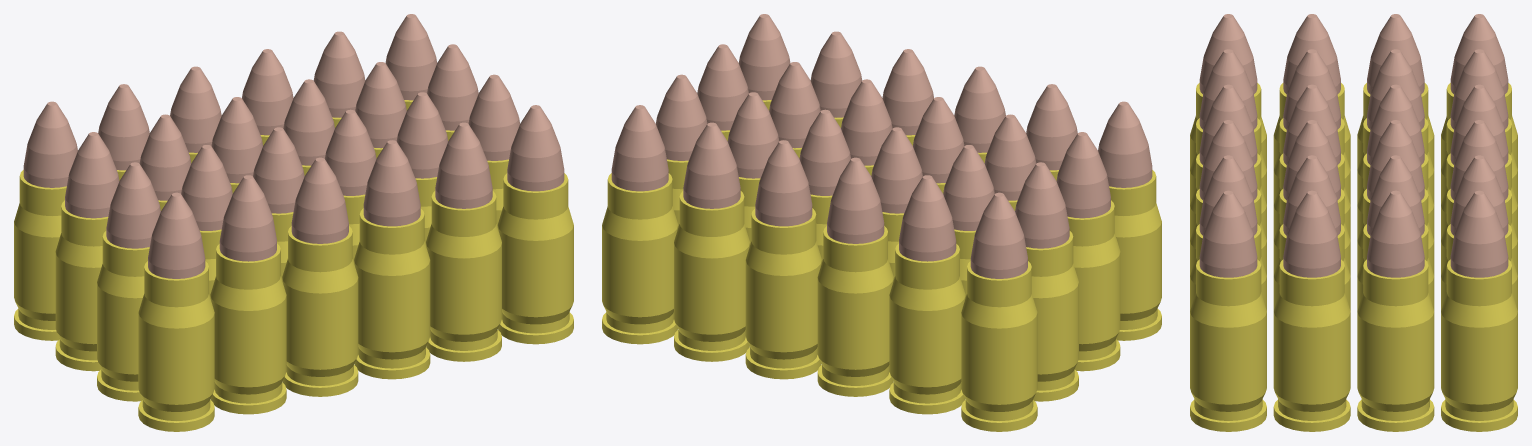
File: ammo.glb
3 views of the same model, side by side, from view 1: azimuth 30°, elevation 25°; view 2: azimuth 150°, elevation 25°; view 3: azimuth 270°, elevation 25° (orthographic).
Visible parts, largest first — view 1: ammo_machinegun.002, ammo_machinegun.013, ammo_machinegun.005, ammo_machinegun.010, ammo_machinegun.018, ammo_machinegun.021, ammo_machinegun.003, ammo_machinegun, ammo_machinegun.001, ammo_machinegun.016, ammo_machinegun.023, ammo_machinegun.015 (+12 smaller); view 2: ammo_machinegun.003, ammo_machinegun.012, ammo_machinegun.004, ammo_machinegun.011, ammo_machinegun.019, ammo_machinegun.020, ammo_machinegun.002, ammo_machinegun.001, ammo_machinegun, ammo_machinegun.017, ammo_machinegun.022, ammo_machinegun.014 (+12 smaller); view 3: ammo_machinegun.022, ammo_machinegun.023, ammo_machinegun.020, ammo_machinegun.021, ammo_machinegun.008, ammo_machinegun.009, ammo_machinegun.006, ammo_machinegun.007, ammo_machinegun.015, ammo_machinegun.014, ammo_machinegun.016, ammo_machinegun.017 (+12 smaller).
Part boxes in pixels (box(x1,y1,x2,y2)): ammo_machinegun.002: box(138, 192, 214, 431); ammo_machinegun.013: box(354, 140, 430, 379); ammo_machinegun.005: box(210, 175, 286, 414); ammo_machinegun.010: box(282, 157, 358, 396); ammo_machinegun.018: box(426, 122, 501, 361); ammo_machinegun.021: box(497, 105, 573, 344); ammo_machinegun.003: box(14, 101, 77, 340); ammo_machinegun: box(97, 162, 160, 401); ammo_machinegun.001: box(55, 132, 119, 371); ammo_machinegun.016: box(396, 92, 448, 244); ammo_machinegun.023: box(468, 74, 519, 226); ammo_machinegun.015: box(325, 109, 376, 261); ammo_machinegun.003: box(961, 192, 1037, 431); ammo_machinegun.012: box(745, 140, 821, 379); ammo_machinegun.004: box(889, 175, 965, 414); ammo_machinegun.011: box(817, 157, 893, 396); ammo_machinegun.019: box(674, 122, 749, 361); ammo_machinegun.020: box(602, 105, 678, 344); ammo_machinegun.002: box(1098, 101, 1161, 340); ammo_machinegun.001: box(1015, 162, 1078, 401); ammo_machinegun: box(1056, 132, 1120, 371); ammo_machinegun.017: box(727, 92, 779, 244); ammo_machinegun.022: box(656, 74, 707, 226); ammo_machinegun.014: box(799, 109, 850, 261); ammo_machinegun.022: box(1357, 190, 1434, 431); ammo_machinegun.023: box(1273, 190, 1350, 431); ammo_machinegun.020: box(1441, 190, 1517, 431); ammo_machinegun.021: box(1190, 190, 1266, 431); ammo_machinegun.008: box(1273, 84, 1350, 240); ammo_machinegun.009: box(1357, 84, 1434, 240); ammo_machinegun.006: box(1357, 49, 1434, 204); ammo_machinegun.007: box(1273, 49, 1350, 204); ammo_machinegun.015: box(1273, 120, 1350, 275); ammo_machinegun.014: box(1357, 120, 1434, 275); ammo_machinegun.016: box(1273, 155, 1350, 310); ammo_machinegun.017: box(1357, 155, 1434, 310).
Size of the model in its own units: 0.5919 by 0.2941 by 0.3919.
